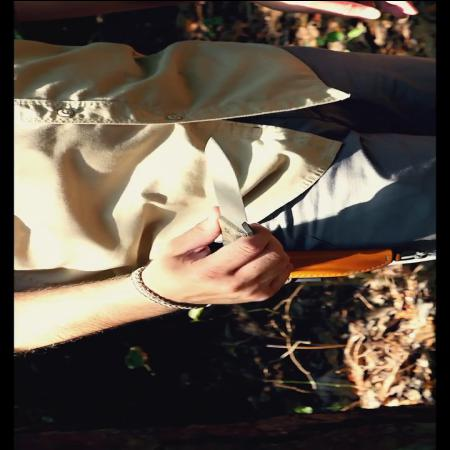long weapon: (185, 132, 294, 289)
